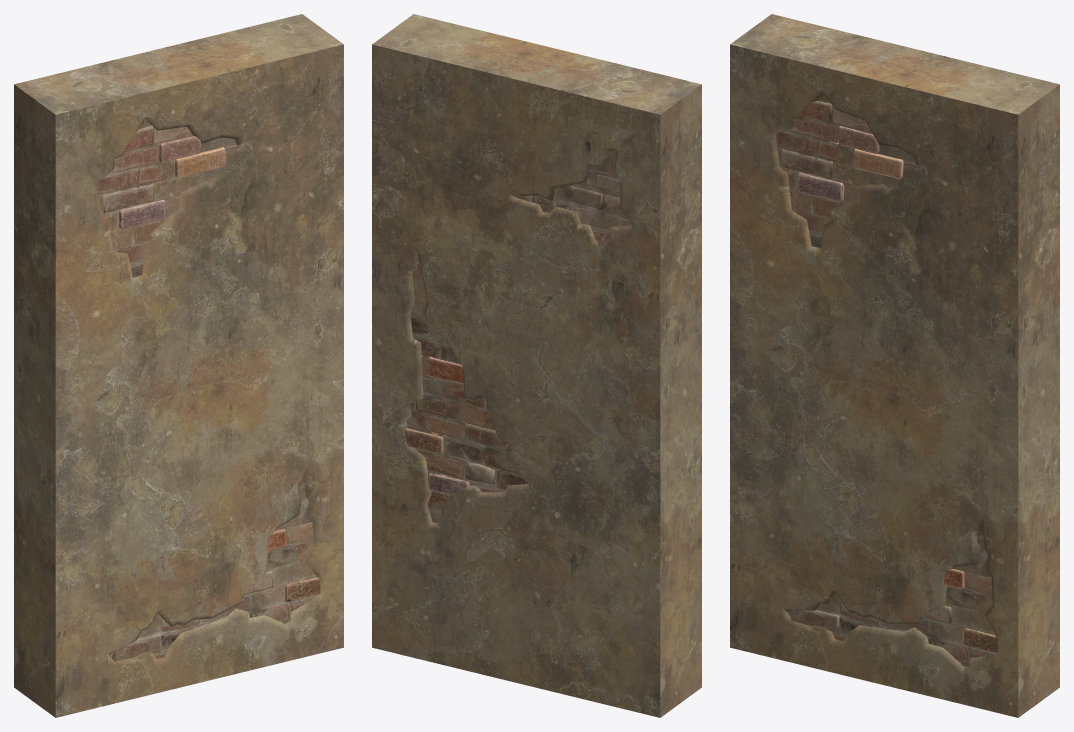
The picture shows the model from 3 angles, left to right: view 1: azimuth 30°, elevation 25°; view 2: azimuth 150°, elevation 25°; view 3: azimuth 330°, elevation 25°; orthographic projection.
Parts seen in each view (by area): view 1: SM_Human_Ruins_Wall_04_LOD0; view 2: SM_Human_Ruins_Wall_04_LOD0; view 3: SM_Human_Ruins_Wall_04_LOD0.
Part boxes in pixels (<box>): SM_Human_Ruins_Wall_04_LOD0: <box>14,14,343,717</box>; SM_Human_Ruins_Wall_04_LOD0: <box>372,14,701,717</box>; SM_Human_Ruins_Wall_04_LOD0: <box>730,14,1059,717</box>.
Size of the model in its own units: 2 by 4 by 0.5.
3 materials, 3 textured.
